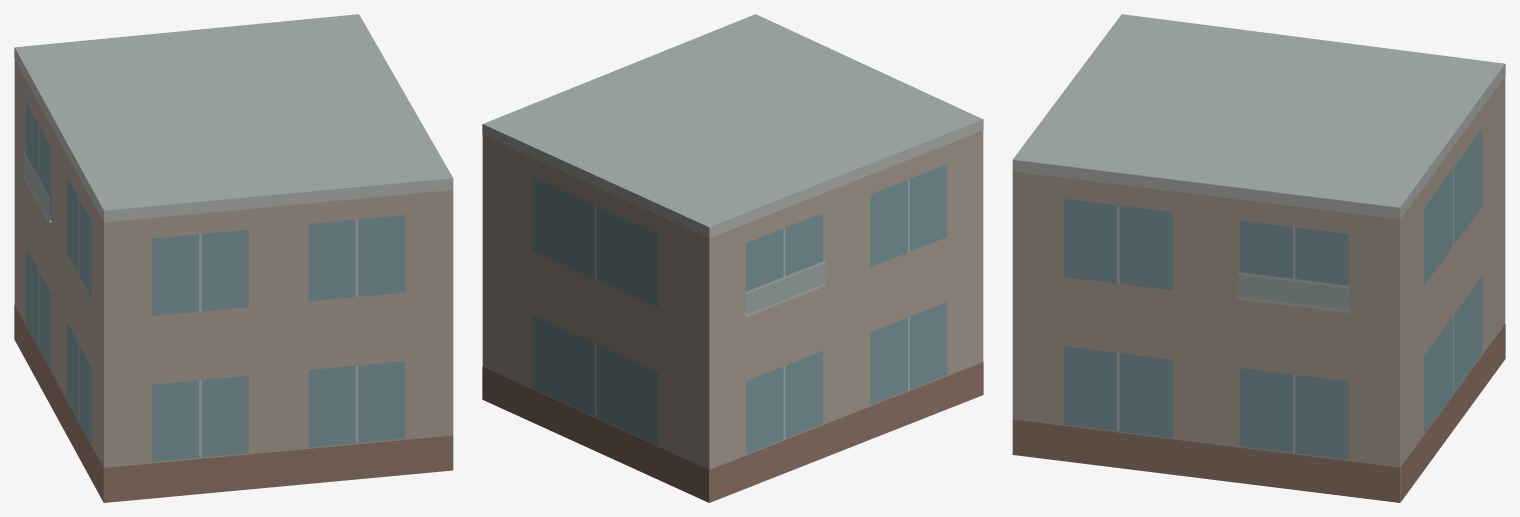
File: survey-upis-32870600.glb
3 renders of one model, left to right at view 1: azimuth 30°, elevation 25°; view 2: azimuth 150°, elevation 25°; view 3: azimuth 270°, elevation 25°, orthographic. The views are drawn at different scales.
Parts seen in each view (by area): view 1: survey-upis-32870600.tmp; view 2: survey-upis-32870600.tmp; view 3: survey-upis-32870600.tmp.
Boxes of the visible parts, x1,y1,x2,y2 form: survey-upis-32870600.tmp: (14,14,453,502); survey-upis-32870600.tmp: (482,14,983,502); survey-upis-32870600.tmp: (1012,14,1505,502).
Size of the model in its own units: 8.6 by 6.1 by 9.24.
